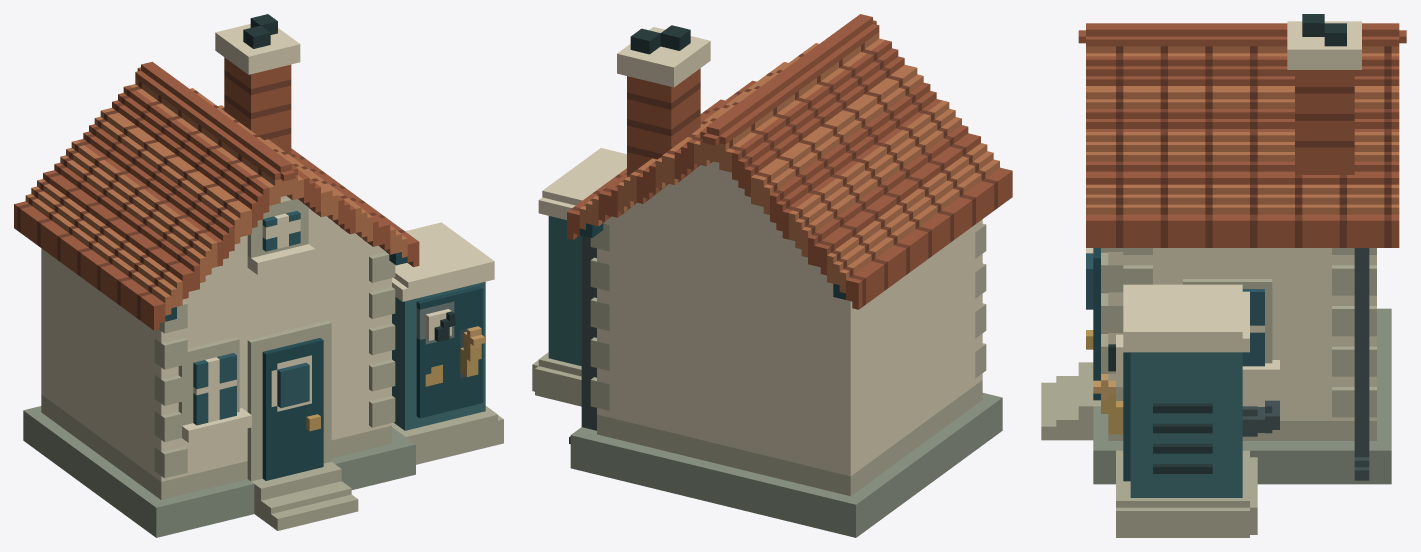
The model's file is lockkeepers_house.glb.
3 views of the same model, side by side, from view 1: azimuth 30°, elevation 25°; view 2: azimuth 150°, elevation 25°; view 3: azimuth 270°, elevation 25° (orthographic). The views are drawn at different scales.
Parts seen in each view (by area): view 1: lockkeepers_house; view 2: lockkeepers_house; view 3: lockkeepers_house.
Part boxes in pixels (x1,y1,x2,y2): lockkeepers_house: (14, 14, 503, 537); lockkeepers_house: (532, 14, 1012, 537); lockkeepers_house: (1041, 14, 1406, 537).
Bounding box in the file's own units: 6.3 × 6.4 × 4.9.
